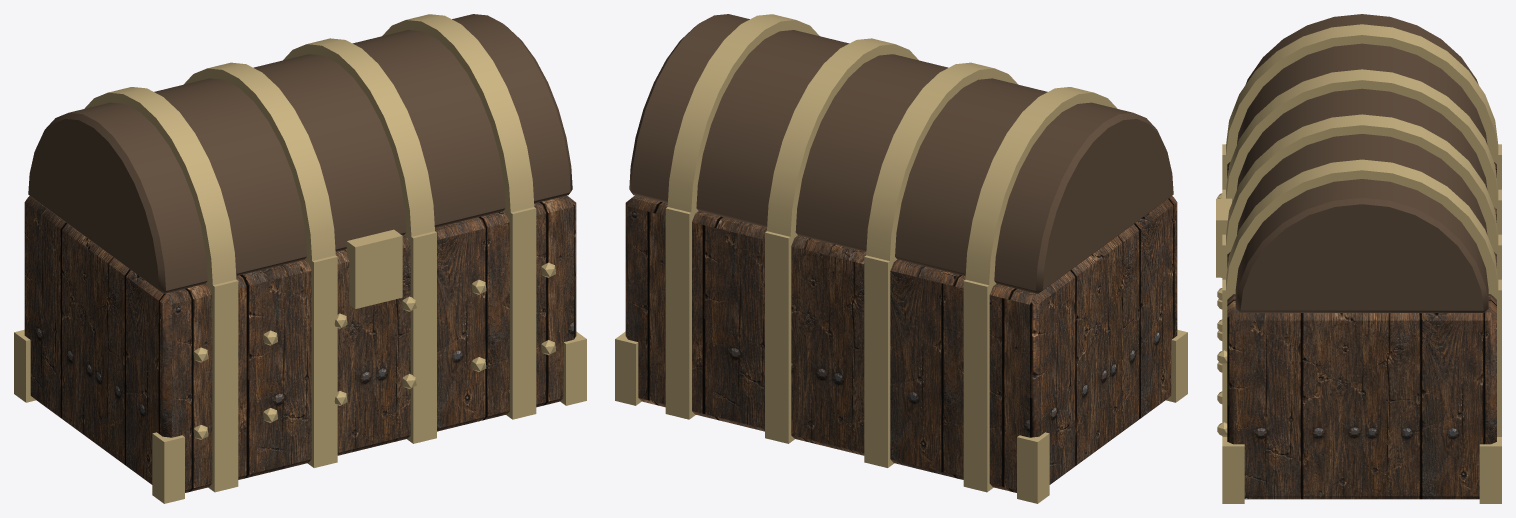
Rendered from ornate-chest-v01.glb.
3 views of the same model, side by side, from view 1: azimuth 30°, elevation 25°; view 2: azimuth 150°, elevation 25°; view 3: azimuth 270°, elevation 25° (orthographic). The views are drawn at different scales.
Visible parts, largest first — view 1: ornate-chest; view 2: ornate-chest; view 3: ornate-chest.
Part boxes in pixels (x1=…): ornate-chest: x1=14, y1=14, x2=586, y2=503; ornate-chest: x1=615, y1=14, x2=1187, y2=503; ornate-chest: x1=1216, y1=14, x2=1501, y2=503.
Bounding box in the file's own units: 1.43 × 1.08 × 0.9.
2 materials, 1 textured.
